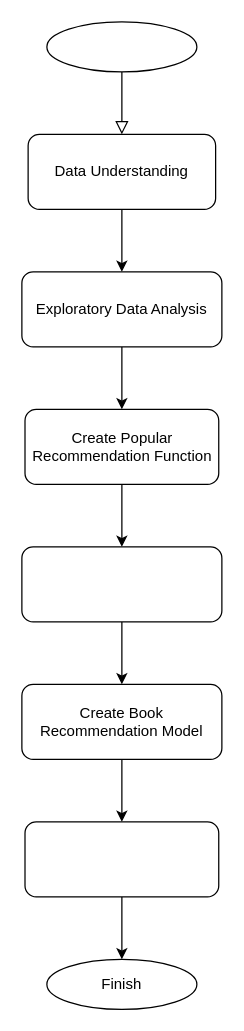
Some shapes in this 244 by 1031 pixel diagram are drawn without their labels. Each missing label, with the box of its shape:
Start: (46, 21, 197, 72)
Test the Book Recommendation Model: (24, 821, 219, 897)
Test the Popular Recommendation Function: (21, 546, 222, 622)
